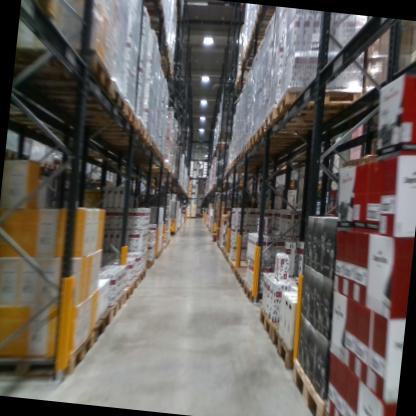pallet: (0, 320, 96, 392), (12, 39, 114, 98), (19, 62, 129, 116), (274, 77, 377, 128), (58, 85, 139, 130), (261, 100, 349, 138), (287, 352, 329, 416), (253, 120, 322, 150), (250, 131, 317, 154), (266, 323, 299, 369), (243, 137, 302, 161), (242, 277, 283, 305), (87, 303, 112, 347), (257, 303, 281, 342), (21, 0, 60, 22), (232, 264, 260, 288), (105, 291, 124, 324), (238, 273, 263, 296), (144, 7, 169, 30), (136, 0, 170, 14), (115, 282, 135, 305), (124, 273, 138, 297), (131, 268, 148, 287), (4, 146, 20, 161), (51, 161, 68, 173), (41, 157, 53, 169)
